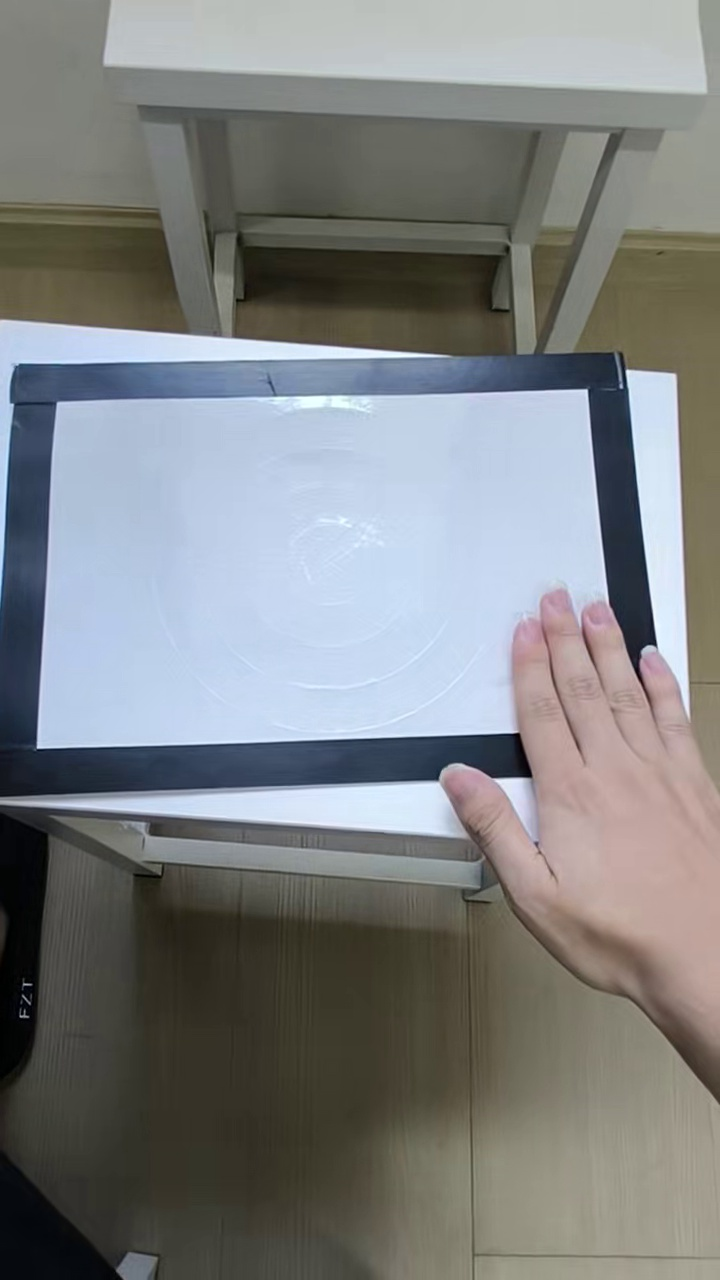board: (12, 350, 665, 791)
